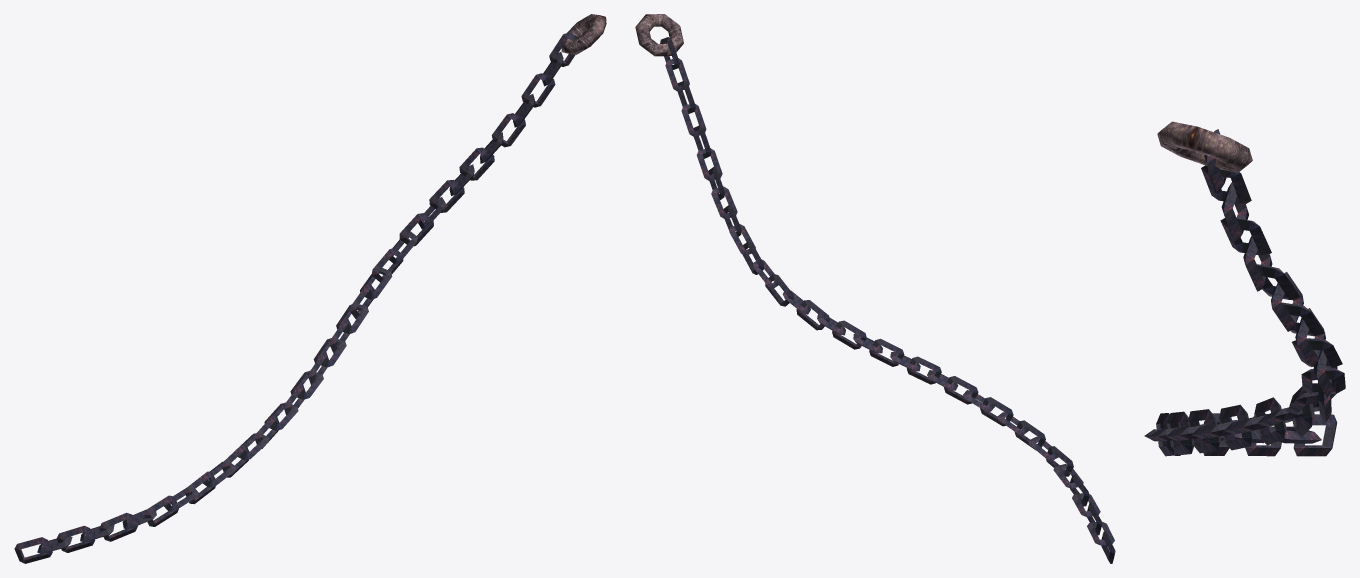
Rendered from flame_chain_006.fbx.
3 renders of one model, left to right at view 1: azimuth 30°, elevation 25°; view 2: azimuth 150°, elevation 25°; view 3: azimuth 270°, elevation 25°, orthographic. The views are drawn at different scales.
Parts seen in each view (by area): view 1: flame_chain_006; view 2: flame_chain_006; view 3: flame_chain_006.
Boxes of the visible parts, box(x1,y1,x2,y2) form: flame_chain_006: box(14, 14, 606, 563); flame_chain_006: box(635, 14, 1115, 563); flame_chain_006: box(1144, 121, 1345, 456).
Size of the model in its own units: 19.95 by 15.27 by 3.44.
